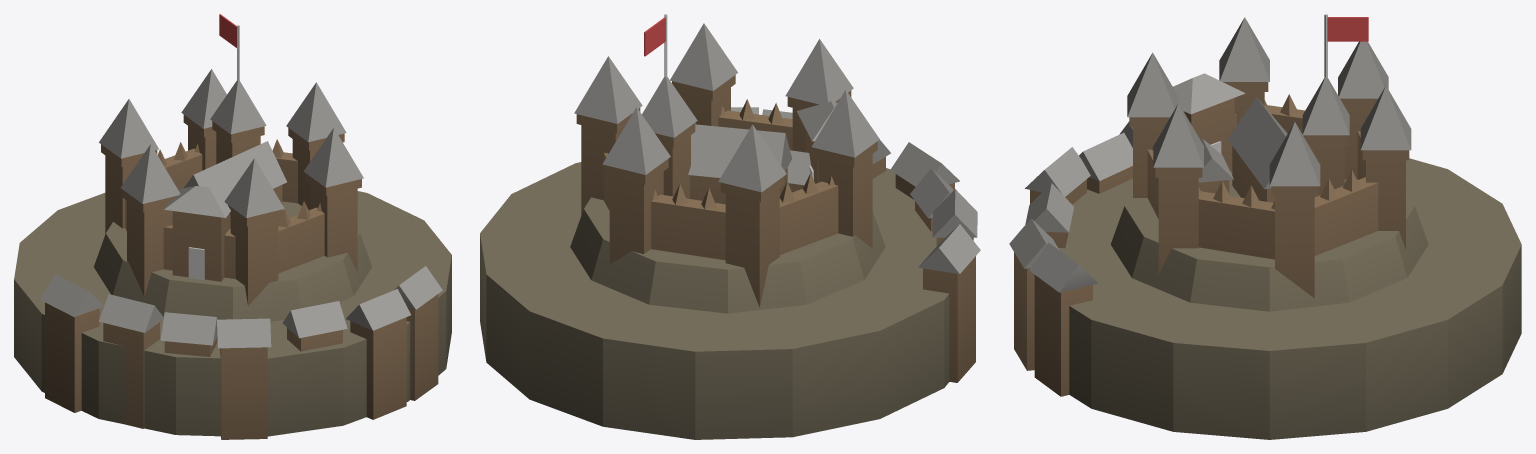
Rendered from castle_rus_a.glb.
3 views of the same model, side by side, from view 1: azimuth 30°, elevation 25°; view 2: azimuth 150°, elevation 25°; view 3: azimuth 270°, elevation 25° (orthographic). The views are drawn at different scales.
Visible parts, largest first — view 1: castle_rus_a; view 2: castle_rus_a; view 3: castle_rus_a.
Boxes of the visible parts, x1,y1,x2,y2 form: castle_rus_a: (14,14,451,439); castle_rus_a: (480,14,980,439); castle_rus_a: (1009,14,1521,439).
Bounding box in the file's own units: 1.94 × 1.4 × 1.93.
